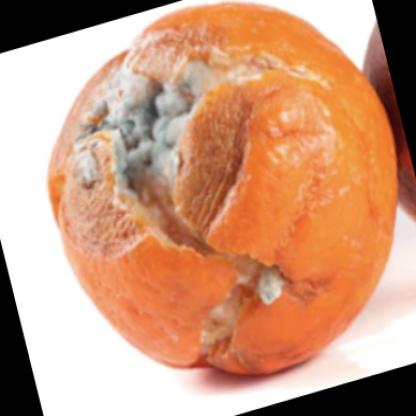rotten: (49, 5, 397, 374)
